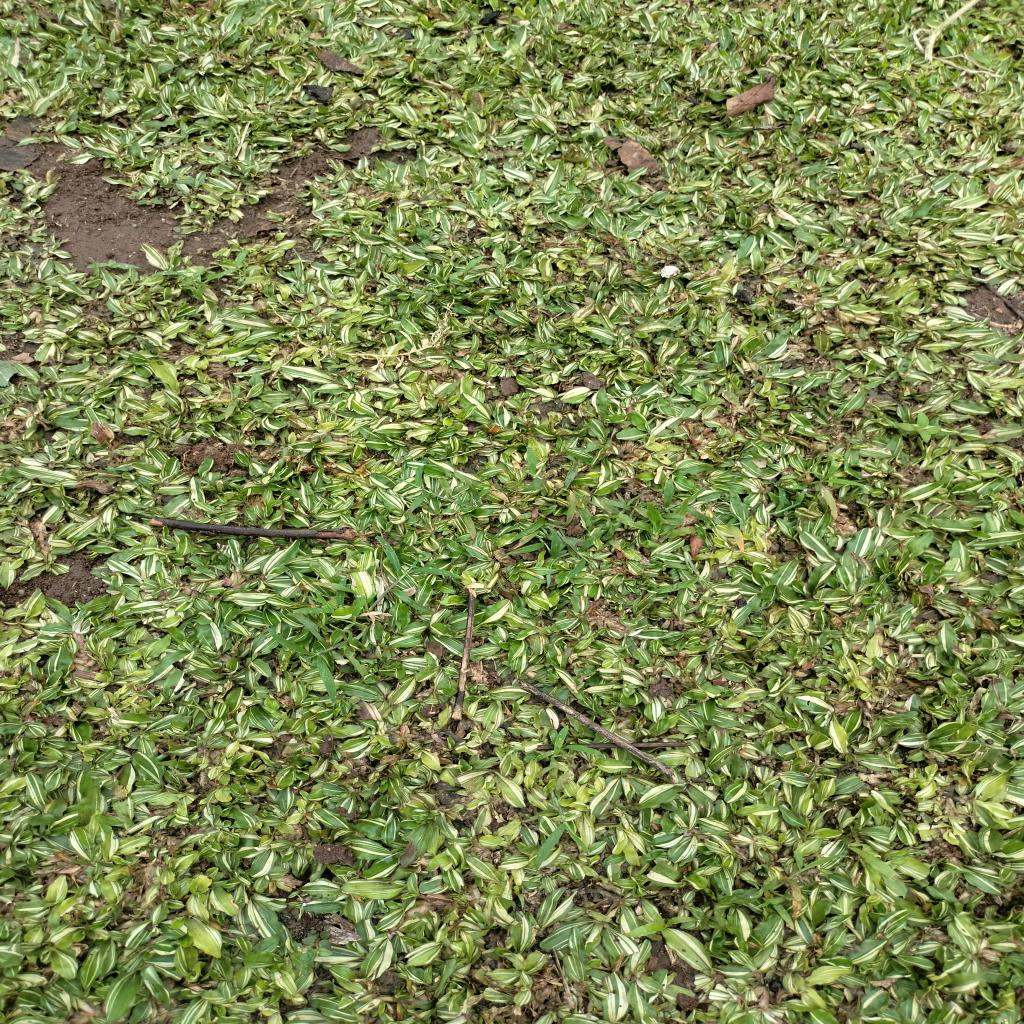rambat atas: (370, 552, 469, 613), (529, 784, 593, 872), (752, 852, 839, 903), (534, 723, 606, 772), (794, 455, 872, 499), (392, 473, 455, 515), (509, 506, 566, 544), (660, 478, 711, 514), (296, 640, 347, 667), (334, 596, 368, 632), (564, 542, 596, 580), (290, 592, 339, 616), (501, 539, 556, 560), (516, 445, 545, 483), (216, 249, 250, 281), (86, 255, 142, 274), (770, 484, 802, 516), (224, 376, 242, 422), (628, 496, 664, 518)
rambat bawah: (606, 496, 691, 543)
tunggang besar: (895, 410, 943, 445)
tunggang tengah: (299, 923, 338, 959), (171, 224, 189, 241)
